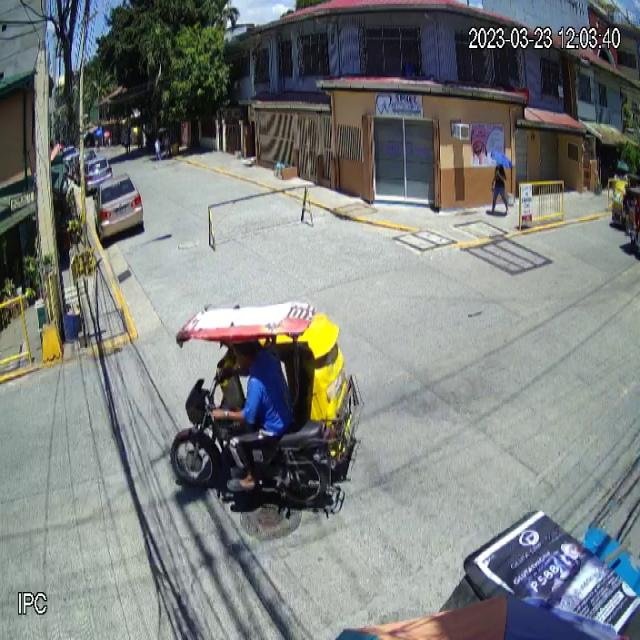Tricycle: (170, 300, 364, 512)
